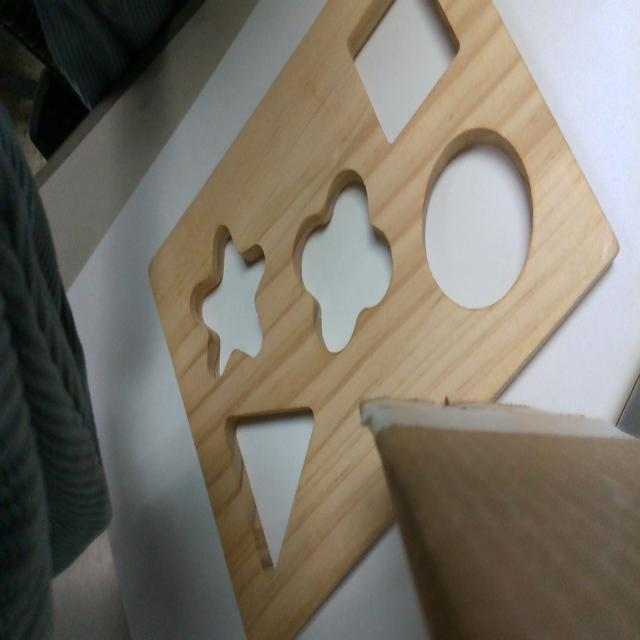circle: (423, 128, 533, 311)
flower: (293, 171, 394, 352)
square: (346, 1, 463, 146)
star: (187, 224, 265, 378)
triangle: (222, 404, 317, 580)
